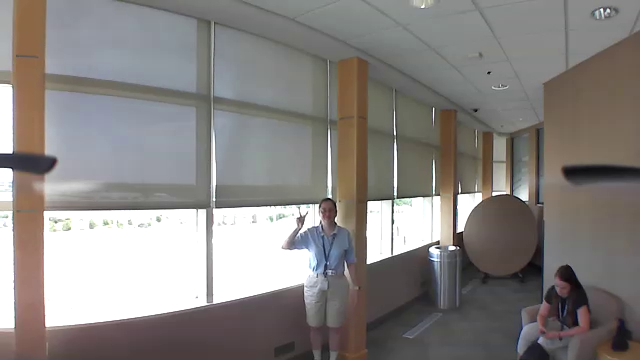peace: (292, 205, 311, 232)
